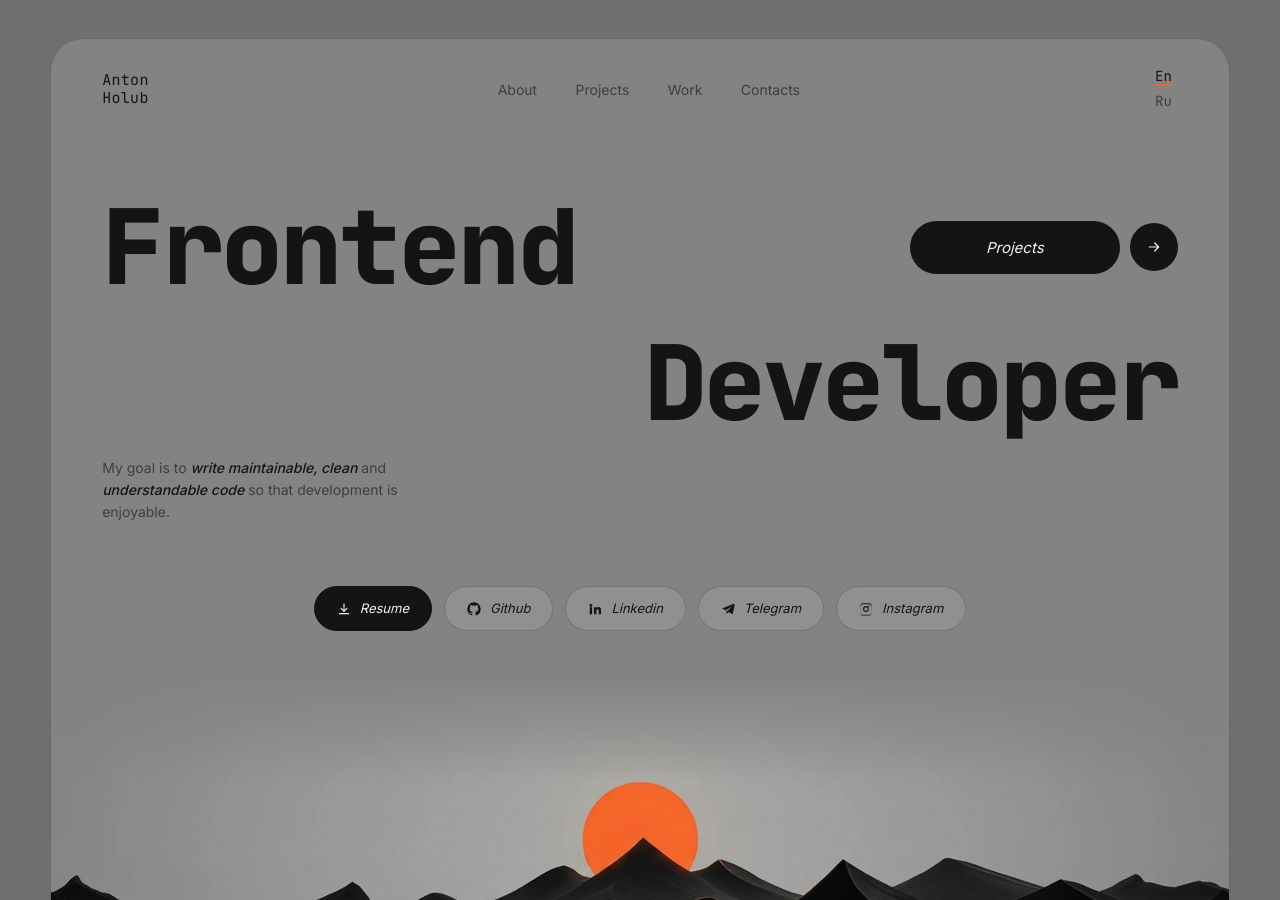
Test: switching the language › covers the page with the loader, then shows Russian copy
The width and height of the screenshot is (1280, 900).
Click the button "Ru" at (1164,102), box 1149,90 -> 1178,114
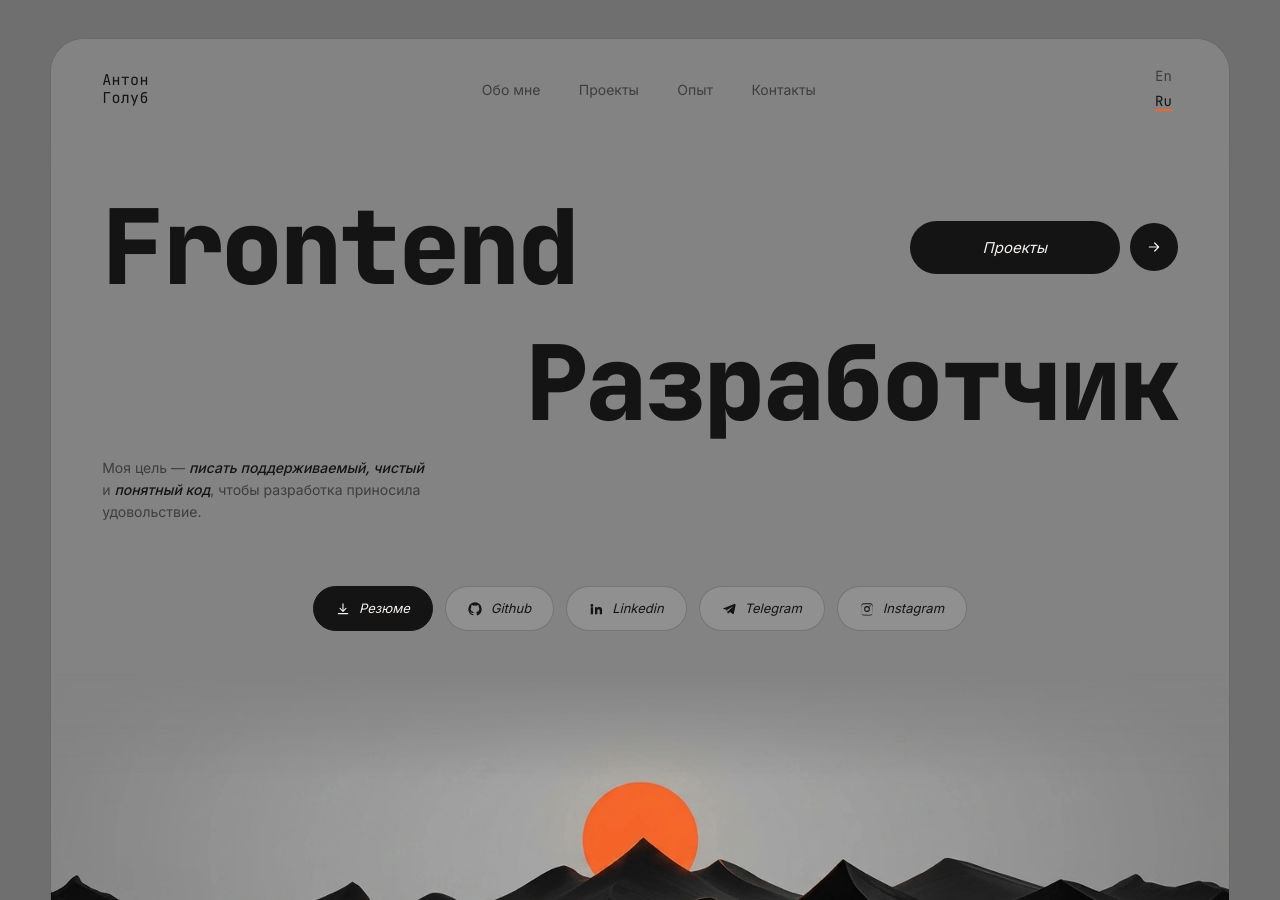
Expected: the link "Обо мне" is shown, 482,78 -> 540,100
